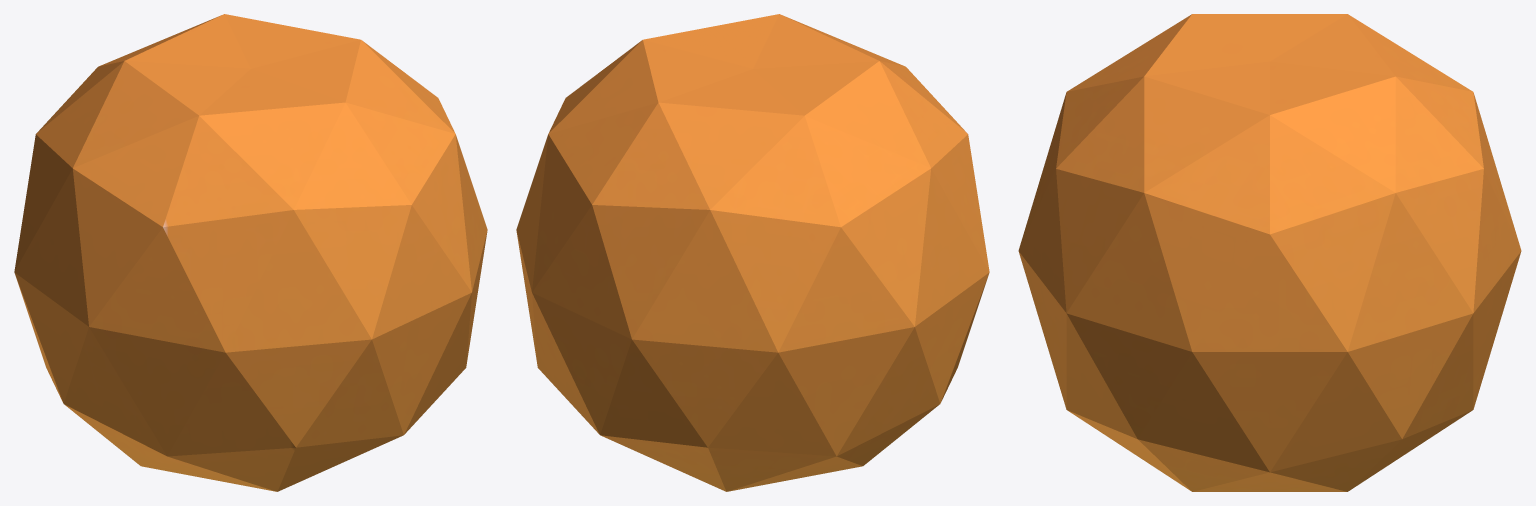
Rendered from orange3.glb.
3 renders of one model, left to right at view 1: azimuth 30°, elevation 25°; view 2: azimuth 150°, elevation 25°; view 3: azimuth 270°, elevation 25°, orthographic. The views are drawn at different scales.
Parts seen in each view (by area): view 1: Orange3; view 2: Orange3; view 3: Orange3.
Boxes of the visible parts, bbox=[...] form: Orange3: bbox=[14, 14, 487, 491]; Orange3: bbox=[516, 14, 989, 491]; Orange3: bbox=[1018, 14, 1521, 491].
Bounding box in the file's own units: 0.4117 × 0.368 × 0.4329.
1 material, 1 textured.
